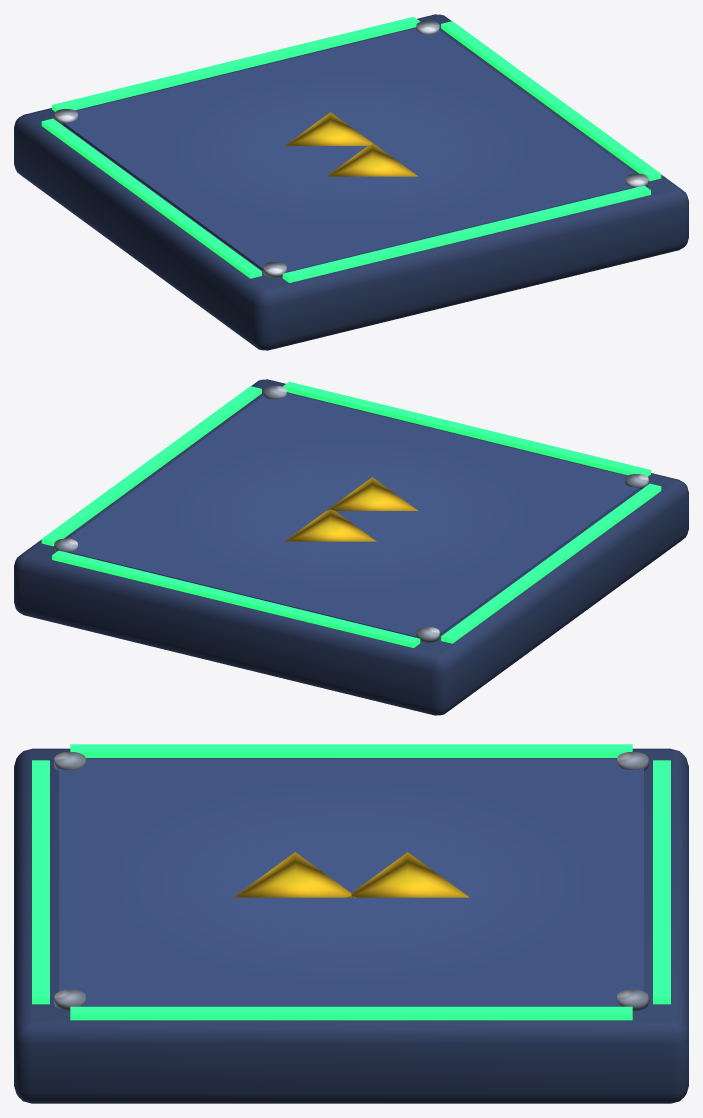
File: LiftPlatform.fbx
3 views of the same model, one above another, from view 1: azimuth 30°, elevation 25°; view 2: azimuth 150°, elevation 25°; view 3: azimuth 270°, elevation 25° (orthographic). The views are drawn at different scales.
Parts seen in each view (by area): view 1: LiftPlatform_Body; view 2: LiftPlatform_Body; view 3: LiftPlatform_Body.
Part boxes in pixels (box(x1,y1,x2,y2)): LiftPlatform_Body: box(14, 14, 688, 350); LiftPlatform_Body: box(14, 379, 688, 715); LiftPlatform_Body: box(14, 744, 688, 1103).
Size of the model in its own units: 3 by 0.44 by 3.
2 materials, 1 textured.
